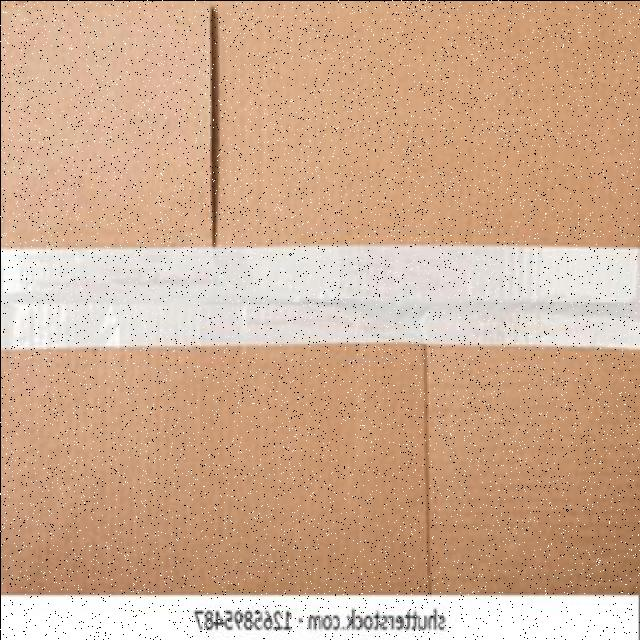normal: (0, 2, 637, 584)
